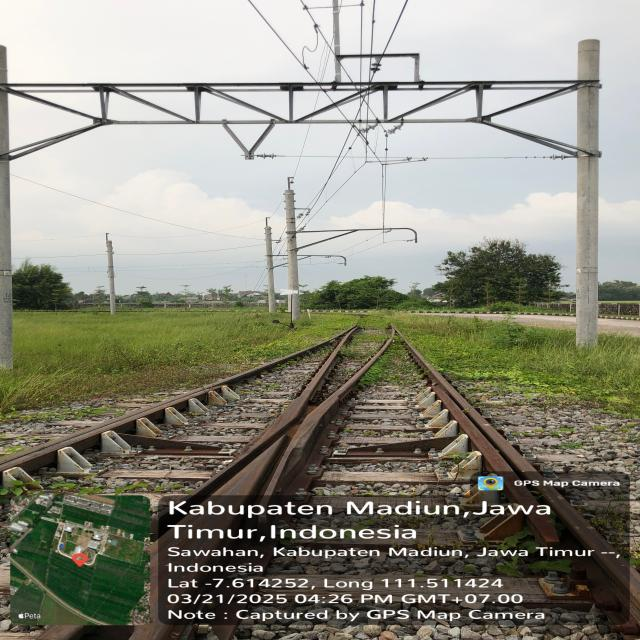rail-detection: (411, 346, 634, 598), (260, 336, 392, 504), (0, 381, 220, 470), (230, 328, 355, 471), (220, 461, 260, 496), (530, 511, 557, 544), (222, 367, 260, 384), (208, 470, 232, 491)
